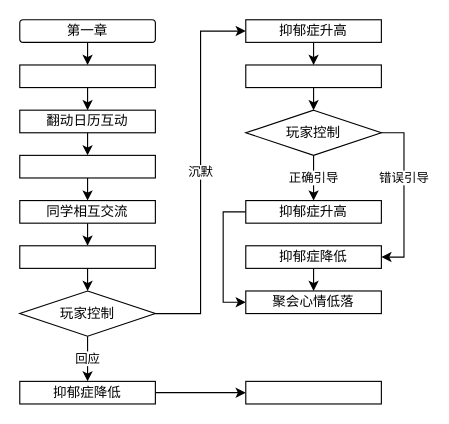
The diagram is 449 pixels wide and 424 high, and some of its shapes have lost their labels. The centre of each missing label's shape, as x and y in pixels:
前往教室集合: (87,166)
发生冲突: (87,256)
班级聚会提示: (87,76)
第二人格自我对话: (313,76)
聚会愉快: (313,392)
